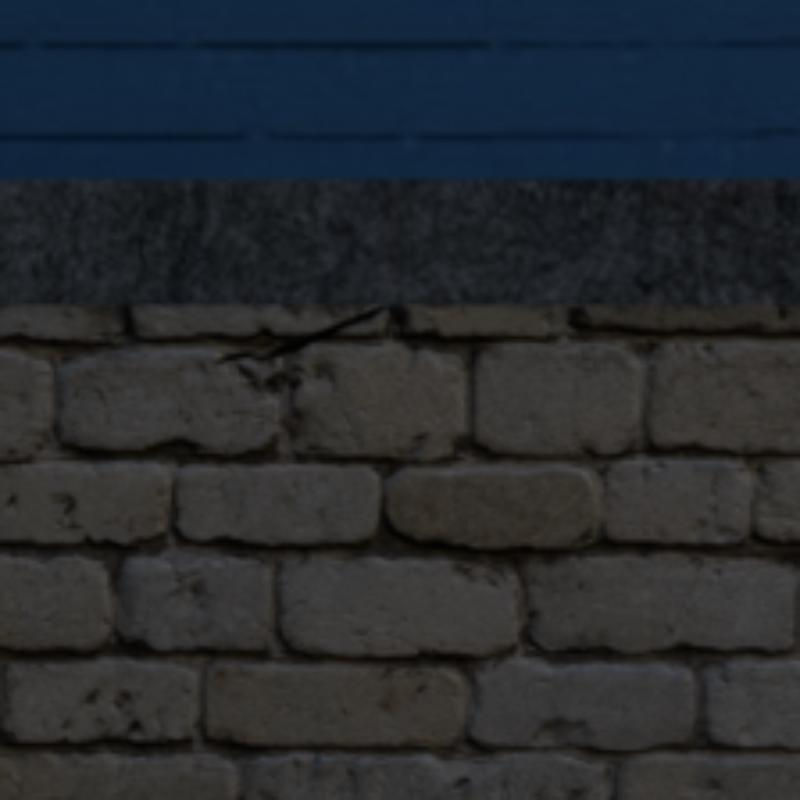pothole: (212, 305, 394, 362)
